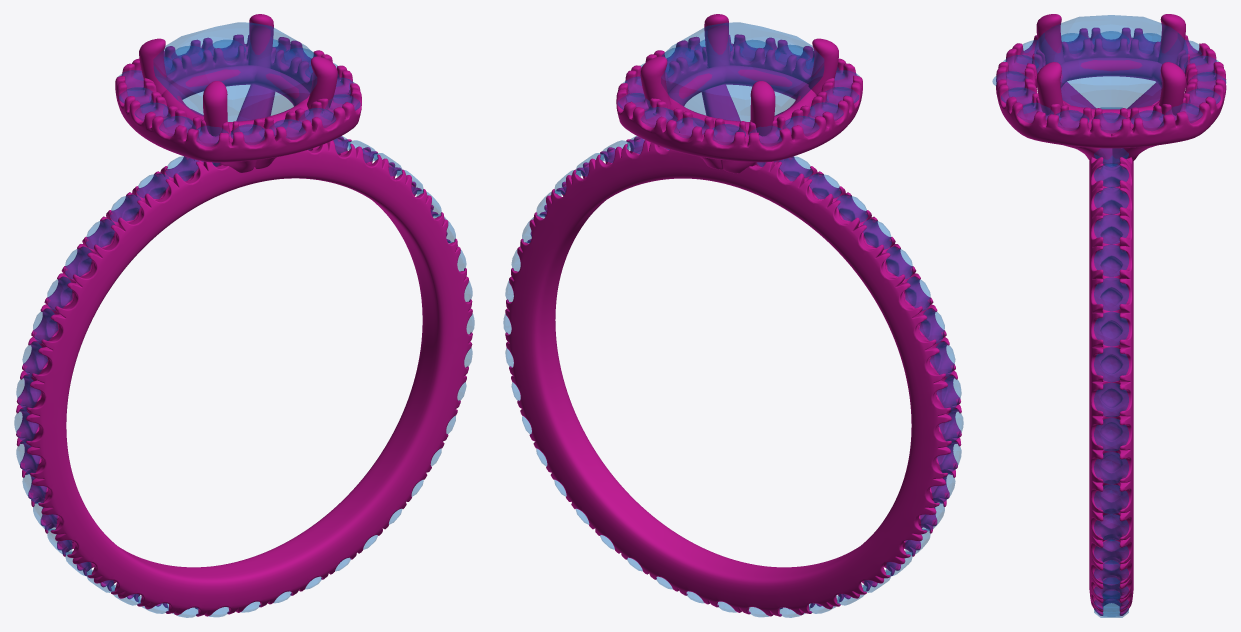
Rendered from trial2.glb.
3 renders of one model, left to right at view 1: azimuth 30°, elevation 25°; view 2: azimuth 150°, elevation 25°; view 3: azimuth 270°, elevation 25°, orthographic.
Visible parts, largest first — view 1: ring, diamonds; view 2: ring, diamonds; view 3: ring, diamonds.
Boxes of the visible parts, x1,y1,x2,y2 form: ring: (16,14,472,616); diamonds: (14,22,474,617); ring: (505,14,961,616); diamonds: (503,22,963,617); ring: (996,14,1226,615); diamonds: (992,15,1226,617).
Bounding box in the file's own units: 21.52 × 25.93 × 9.87.
